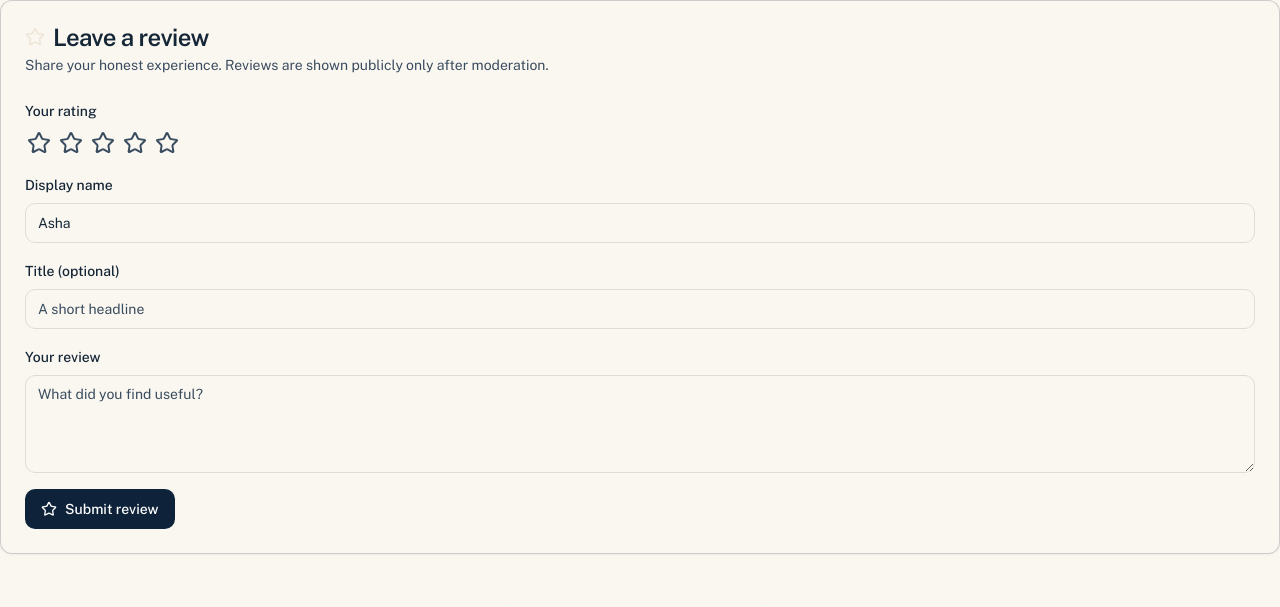
Test case: ReviewForm — real, moderated submissions › requires a rating before submitting
The width and height of the screenshot is (1280, 607).
Click the button "Submit review".
click(100, 509)  # box [25, 489, 174, 529]
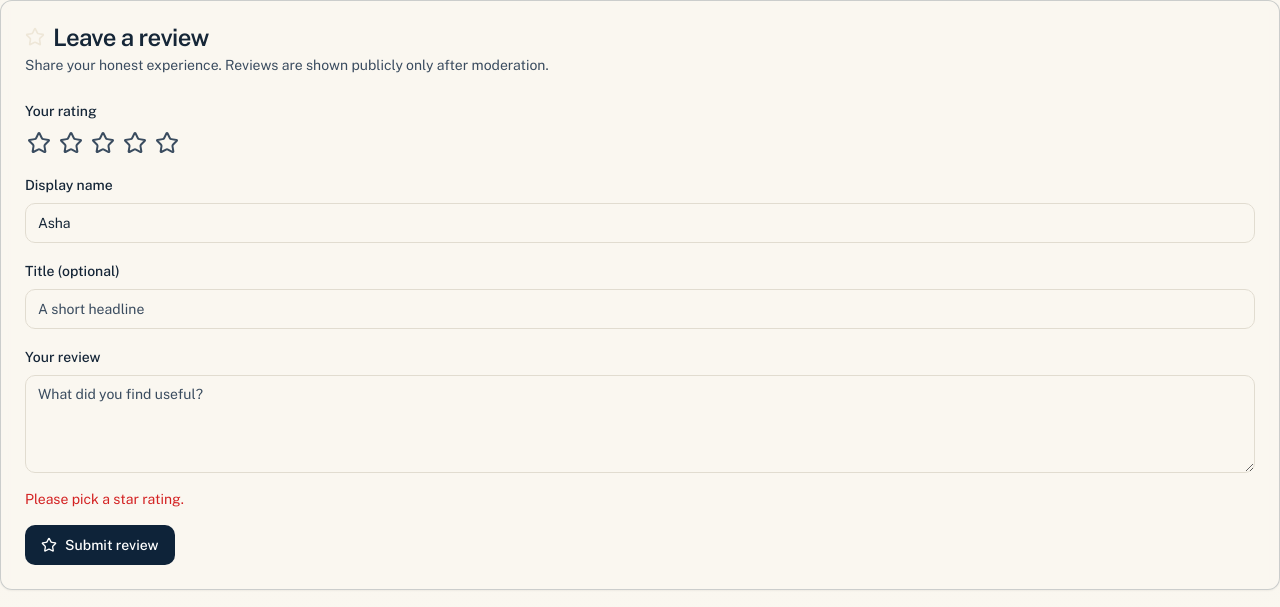
expect the text "Please pick a star rating." is shown: met, box [25, 491, 184, 507]
